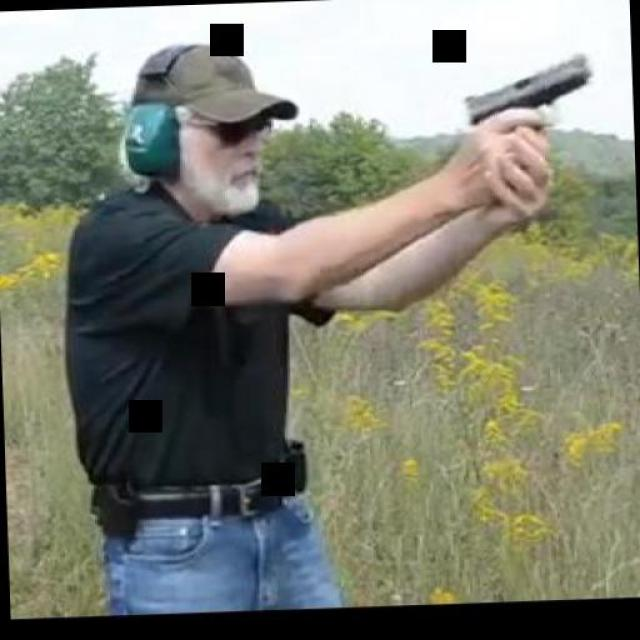gun: (453, 48, 598, 208)
